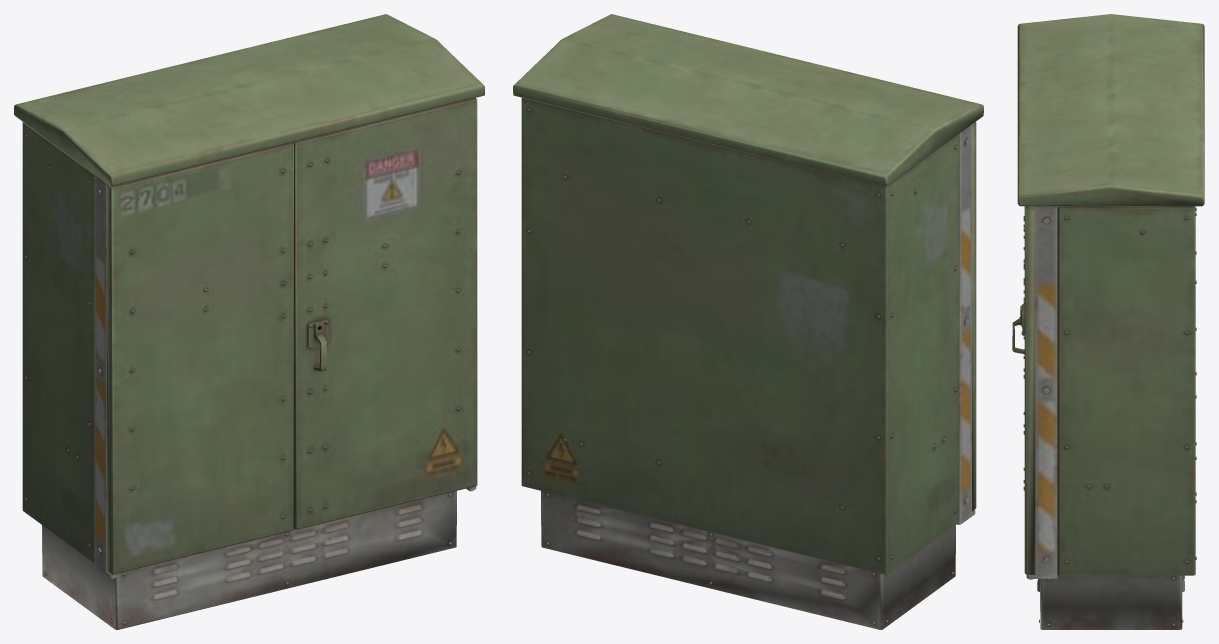
The model's file is utility_box_02.glb.
3 views of the same model, side by side, from view 1: azimuth 30°, elevation 25°; view 2: azimuth 150°, elevation 25°; view 3: azimuth 270°, elevation 25° (orthographic). The views are drawn at different scales.
Parts seen in each view (by area): view 1: utility_box_02; view 2: utility_box_02; view 3: utility_box_02.
Boxes of the visible parts, box(x1,y1,x2,y2) form: utility_box_02: box(14, 14, 484, 629); utility_box_02: box(513, 14, 983, 629); utility_box_02: box(1012, 14, 1204, 629).
Bounding box in the file's own units: 0.92 × 1.12 × 0.432.
Materials: 1 (1 with a texture image).
